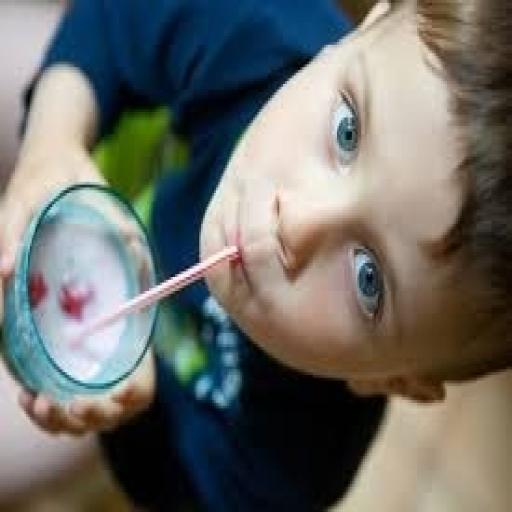drinking: (0, 50, 408, 404)
